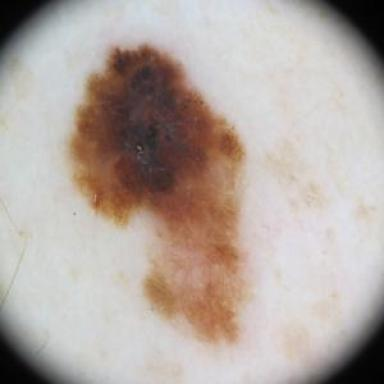Melanoma: (68, 44, 245, 344)
